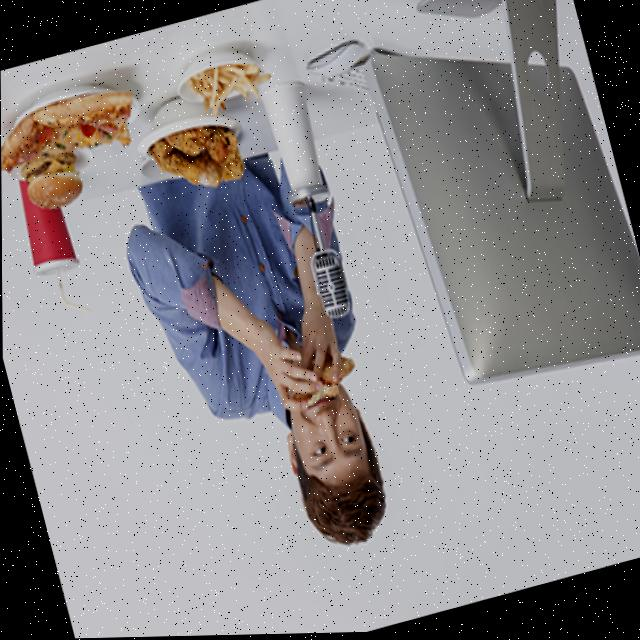eating-person: (85, 69, 433, 610)
